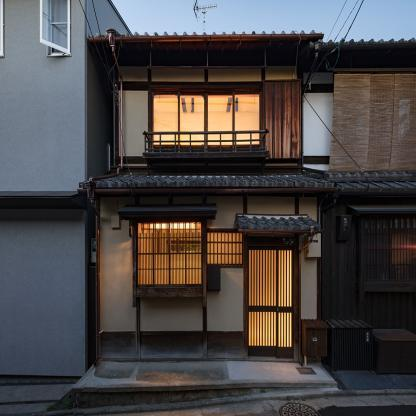Blind: (137, 221, 202, 287)
Door: (248, 245, 295, 359)
Floor Slab: (114, 163, 302, 176)
Ground Floor: (96, 176, 321, 360)
Roof: (79, 173, 335, 188), (87, 28, 324, 44), (234, 213, 323, 234), (116, 203, 218, 212)
Top Floor: (114, 43, 302, 163)
Window: (137, 221, 202, 287), (152, 91, 205, 149), (208, 91, 260, 149), (207, 229, 243, 268)
Window Outline: (132, 218, 207, 308)
